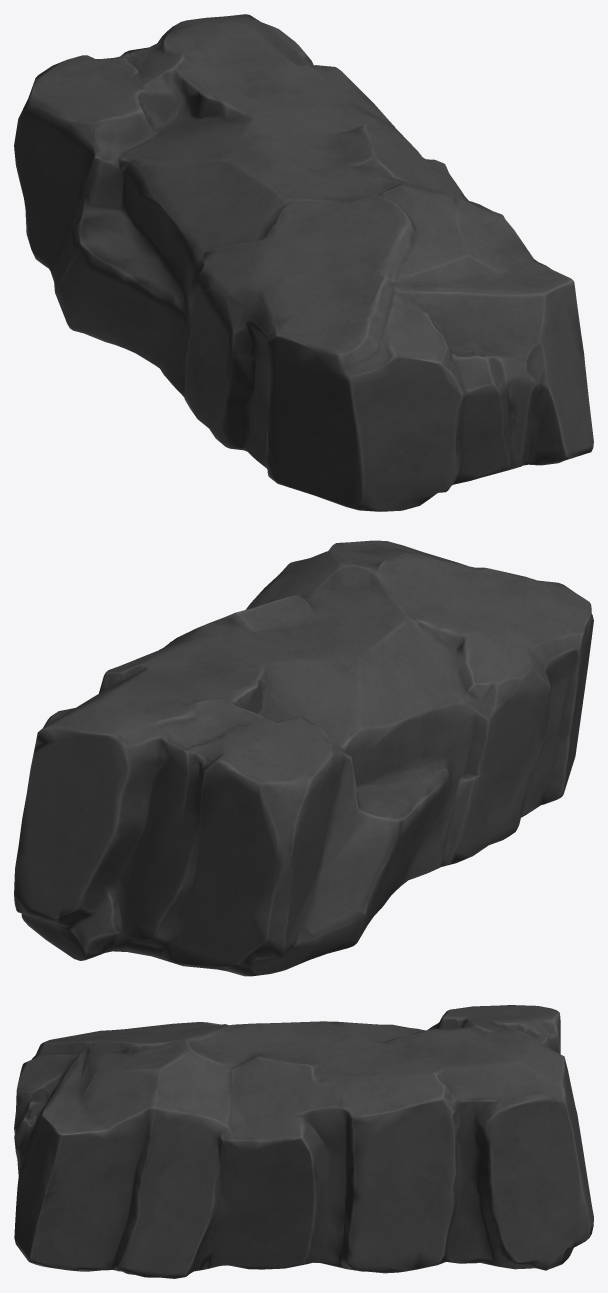
The model's file is free_stylized_cliff_rock.glb.
3 views of the same model, one above another, from view 1: azimuth 30°, elevation 25°; view 2: azimuth 150°, elevation 25°; view 3: azimuth 270°, elevation 25° (orthographic). The views are drawn at different scales.
Visible parts, largest first — view 1: Cliff_2_Low; view 2: Cliff_2_Low; view 3: Cliff_2_Low.
Part boxes in pixels (left/top/right/bottom): Cliff_2_Low: left=14, top=14, right=593, bottom=511; Cliff_2_Low: left=14, top=540, right=593, bottom=976; Cliff_2_Low: left=14, top=1005, right=593, bottom=1278.
Bounding box in the file's own units: 0.4717 × 0.3736 × 0.9725.
1 material, 1 textured.
